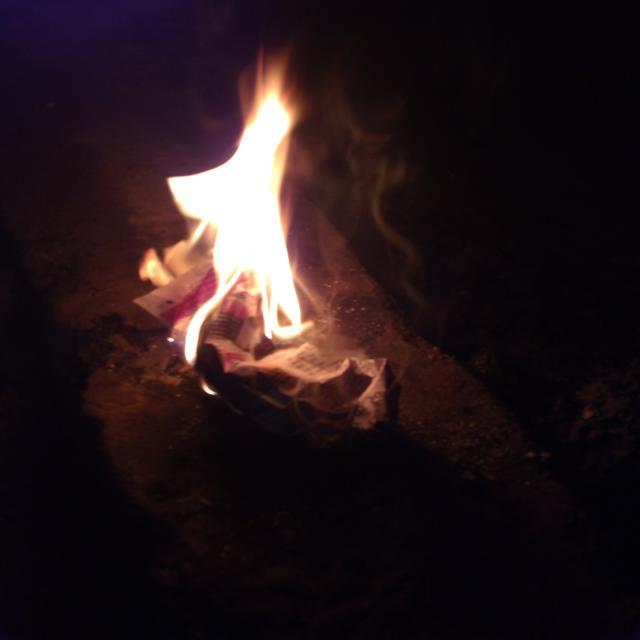Fire: (161, 50, 314, 368)
